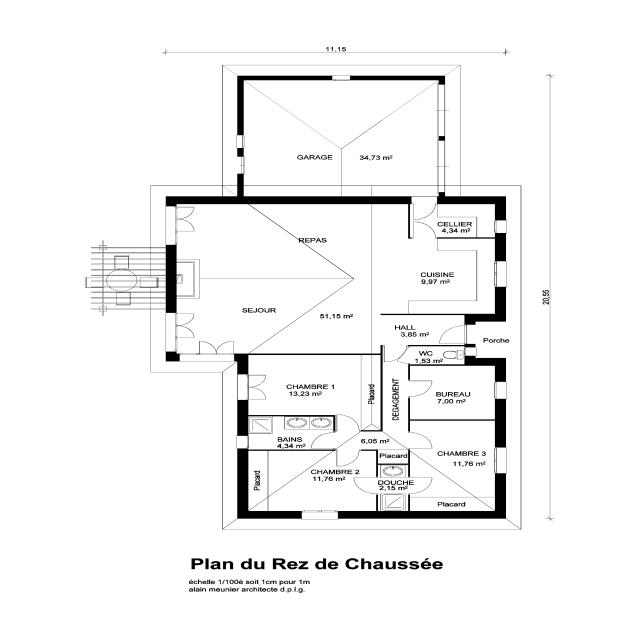door: (171, 309, 198, 341), (408, 197, 439, 222), (245, 372, 270, 401), (173, 204, 197, 233), (233, 372, 256, 402), (438, 324, 469, 346), (196, 338, 236, 354), (406, 431, 435, 450), (410, 221, 438, 240), (309, 431, 338, 449), (383, 343, 409, 363), (406, 379, 434, 397), (336, 413, 361, 432), (335, 449, 361, 467), (351, 477, 378, 494), (408, 478, 434, 494), (492, 216, 509, 236), (329, 70, 355, 82)
window: (232, 131, 248, 177), (234, 370, 250, 402), (492, 260, 508, 290), (493, 445, 508, 476), (297, 510, 344, 519), (491, 217, 509, 236), (493, 380, 506, 402), (234, 432, 249, 451)
zone: (178, 200, 372, 355), (373, 238, 495, 314), (242, 354, 378, 416), (248, 450, 374, 513), (409, 418, 499, 506), (407, 365, 498, 421), (408, 203, 497, 238), (246, 416, 334, 450), (376, 462, 411, 510), (409, 345, 465, 365), (376, 449, 410, 466), (376, 462, 410, 477)
